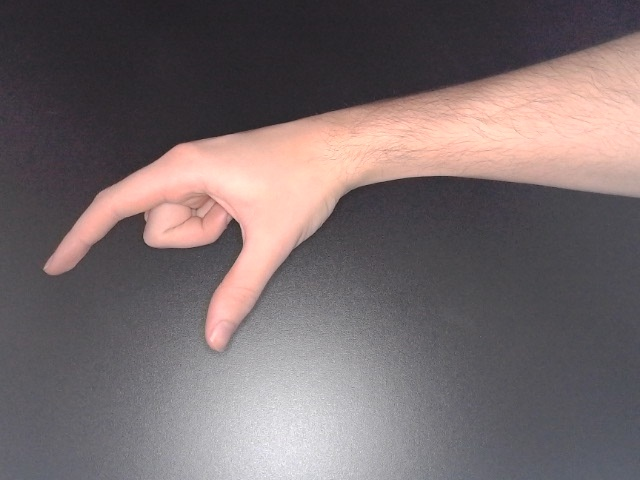q: (37, 94, 405, 359)
